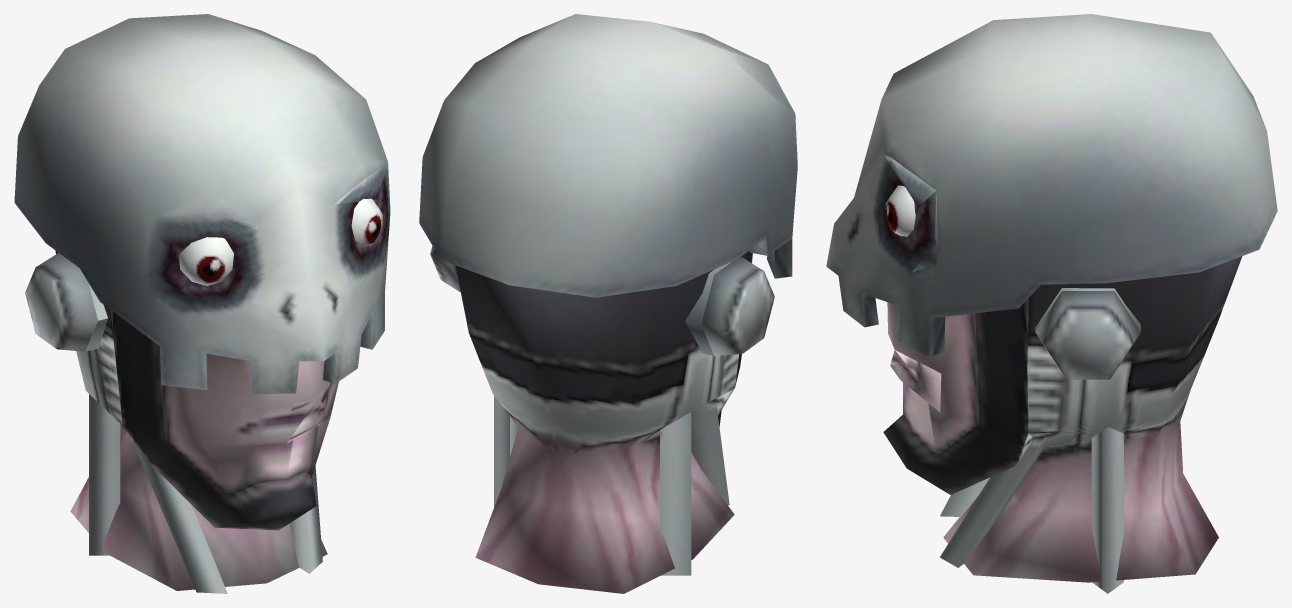
File: head-22_andromon.blend.obj
The picture shows the model from 3 angles, left to right: view 1: azimuth 30°, elevation 25°; view 2: azimuth 150°, elevation 25°; view 3: azimuth 270°, elevation 25°; orthographic projection. The views are drawn at different scales.
Visible parts, largest first — view 1: head-22_andromon.blend_Andromon; view 2: head-22_andromon.blend_Andromon; view 3: head-22_andromon.blend_Andromon.
Boxes of the visible parts, left/top/right/bottom form: head-22_andromon.blend_Andromon: left=14, top=14, right=390, bottom=593; head-22_andromon.blend_Andromon: left=419, top=14, right=797, bottom=593; head-22_andromon.blend_Andromon: left=826, top=14, right=1277, bottom=593.
Size of the model in its own units: 0.2714 by 0.4265 by 0.3443.
1 material, 1 textured.
